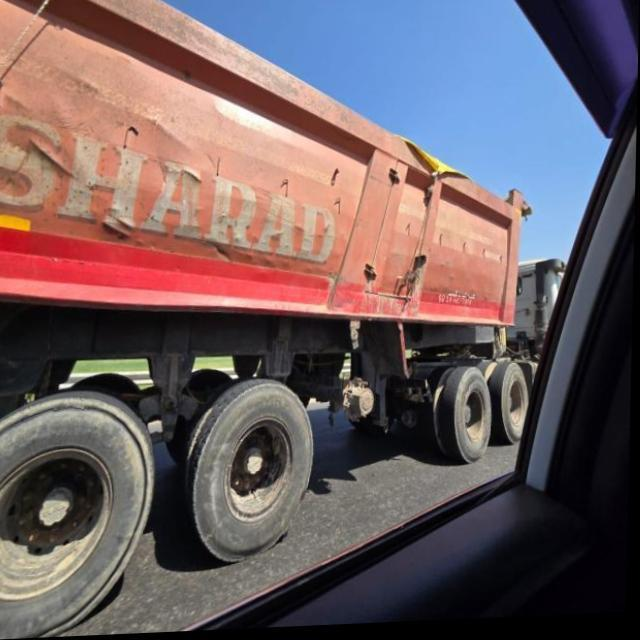uncovered: (0, 0, 544, 524)
